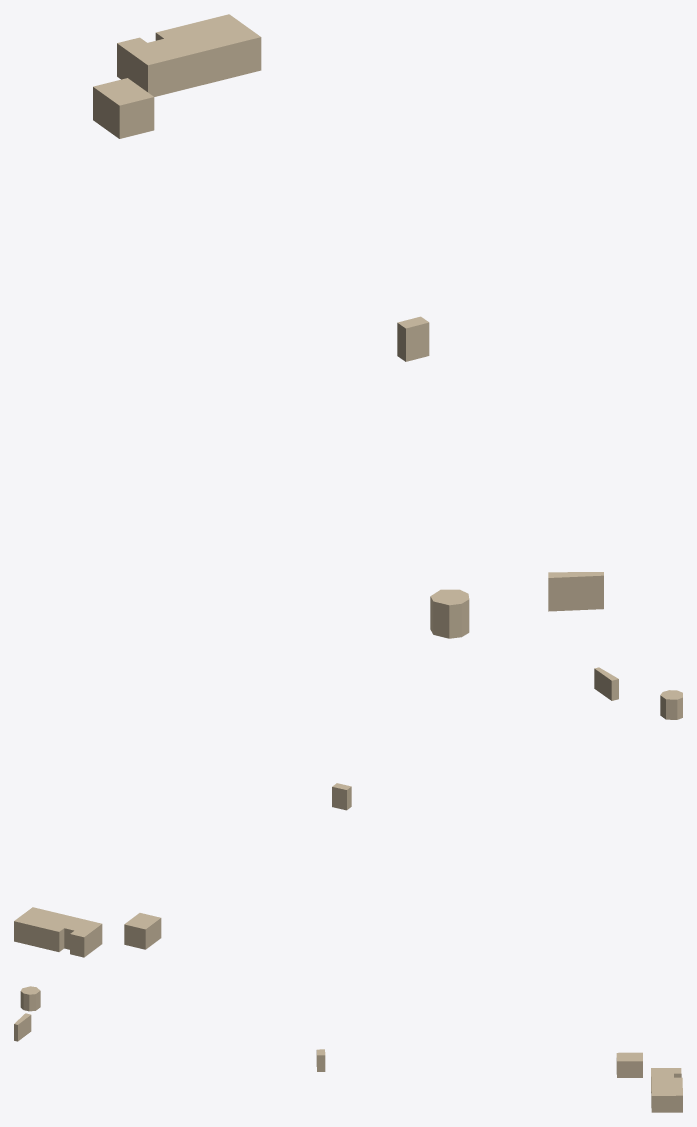
File: 0_-3-estimated-coarse.glb
3 views of the same model, one above another, from view 1: azimuth 30°, elevation 25°; view 2: azimuth 150°, elevation 25°; view 3: azimuth 270°, elevation 25° (orthographic). The views are drawn at different scales.
Bounding box in the file's own units: 169 × 12 × 435.
